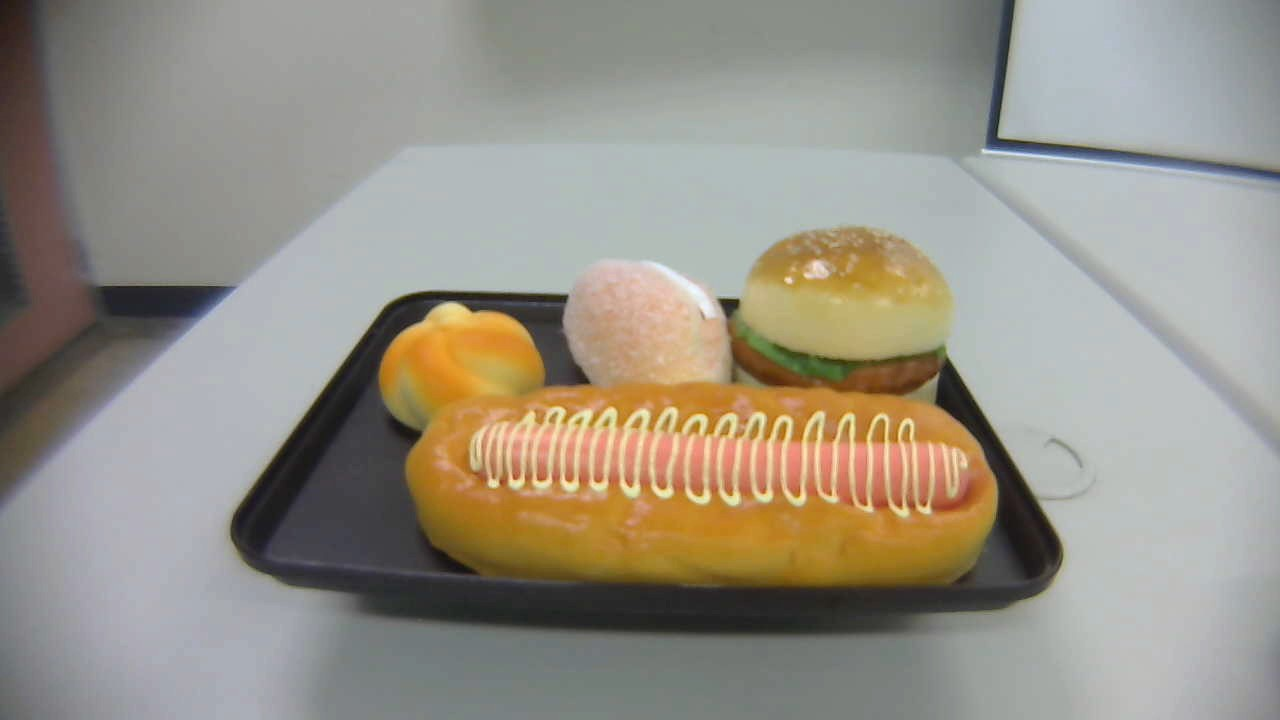coconut: (561, 260, 730, 391)
hamburger: (731, 225, 955, 437)
hot dog: (403, 385, 997, 596)
twist bread: (376, 301, 545, 432)
